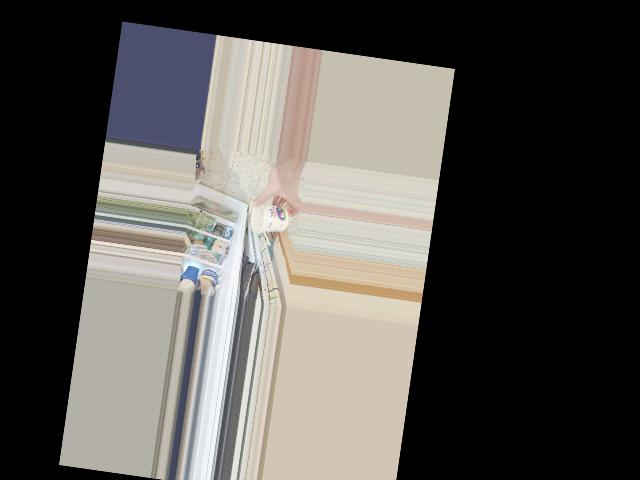cotage: (247, 199, 291, 235)
